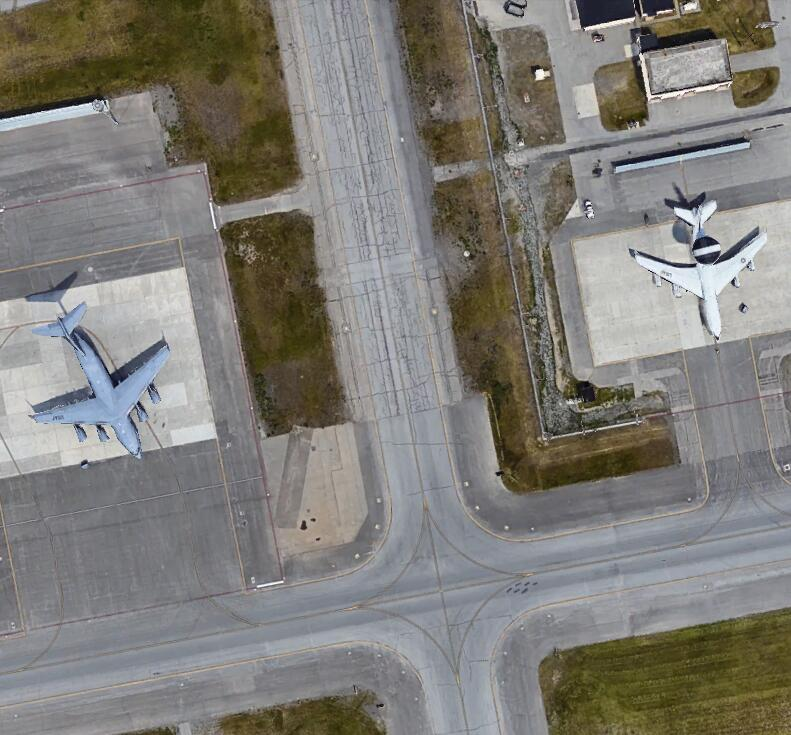A3: (29, 300, 172, 459)
A7: (630, 198, 770, 343)
